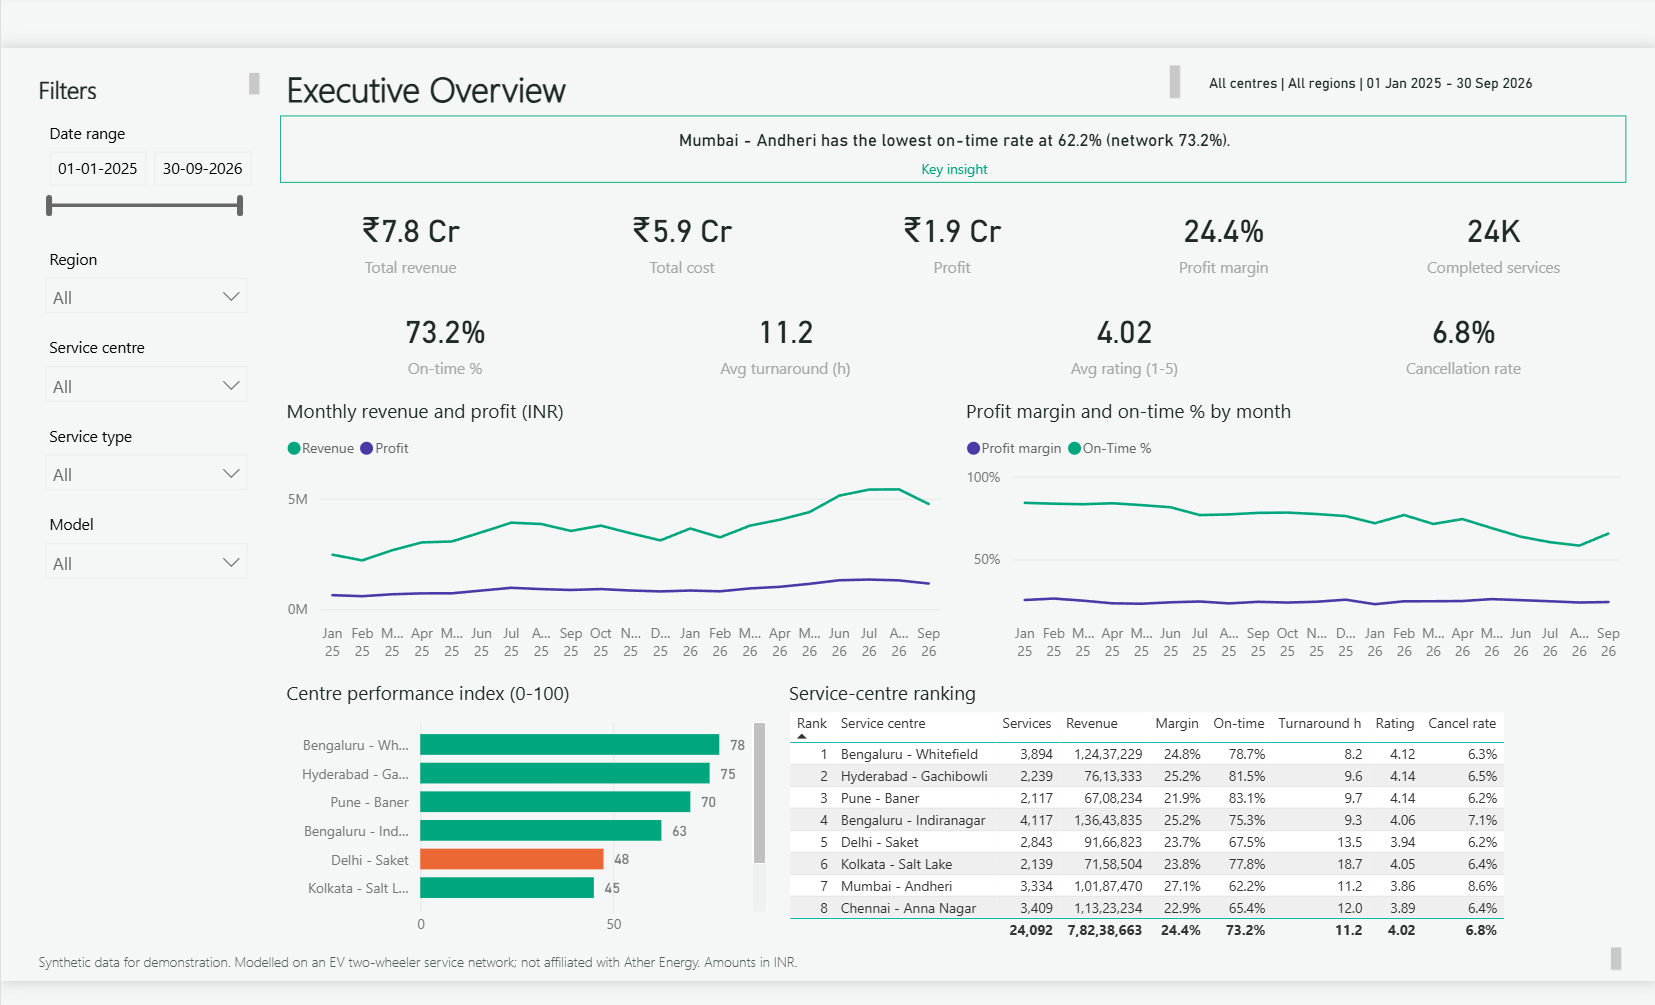

What the dashboard file says about the page in this screenshot:
{"tool":"powerbi","page":{"name":"Executive Overview","canvas":[1280,720],"ordinal":0},"visuals":[{"type":"textbox","box":[216,8,700,40],"z":0},{"type":"card","fields":{"Values":["_Measures.Selection Label"]},"box":[860,12,396,34],"z":1000},{"type":"card","fields":{"Values":["_Measures.Key Insight - Executive"]},"box":[216,52,1040,52],"z":2000},{"type":"textbox","box":[24,14,180,30],"z":3000},{"type":"slicer","fields":{"Values":["DimDate.date"]},"box":[24,52,176,90],"z":4000},{"type":"slicer","fields":{"Values":["DimCentre.region"]},"box":[24,150,176,60],"z":5000},{"type":"slicer","fields":{"Values":["DimCentre.center_name"]},"box":[24,218,176,60],"z":6000},{"type":"slicer","fields":{"Values":["DimServiceType.service_type"]},"box":[24,286,176,60],"z":7000},{"type":"slicer","fields":{"Values":["DimModel.model"]},"box":[24,354,176,60],"z":8000},{"type":"textbox","box":[24,690,1232,28],"z":9000},{"type":"card","fields":{"Values":["_Measures.INR Short Revenue"]},"box":[216,112,201,72],"z":10000},{"type":"card","fields":{"Values":["_Measures.INR Short Cost"]},"box":[425,112,201,72],"z":11000},{"type":"card","fields":{"Values":["_Measures.INR Short Profit"]},"box":[634,112,201,72],"z":12000},{"type":"card","fields":{"Values":["_Measures.Profit Margin %"]},"box":[843,112,201,72],"z":13000},{"type":"card","fields":{"Values":["_Measures.Completed Services"]},"box":[1052,112,201,72],"z":14000},{"type":"card","fields":{"Values":["_Measures.On-Time %"]},"box":[216,190,254,72],"z":15000},{"type":"card","fields":{"Values":["_Measures.Avg Turnaround Hours"]},"box":[478,190,254,72],"z":16000},{"type":"card","fields":{"Values":["_Measures.Avg Rating"]},"box":[740,190,254,72],"z":17000},{"type":"card","fields":{"Values":["_Measures.Cancellation Rate"]},"box":[1002,190,254,72],"z":18000},{"type":"lineChart","title":"Monthly revenue and profit (INR)","fields":{"Category":["DimDate.Month Label"],"Y":["_Measures.Total Revenue","_Measures.Profit"]},"box":[216,270,516,210],"z":19000},{"type":"lineChart","title":"Profit margin and on-time % by month","fields":{"Category":["DimDate.Month Label"],"Y":["_Measures.Profit Margin %","_Measures.On-Time %"]},"box":[740,270,516,210],"z":20000},{"type":"clusteredBarChart","title":"Centre performance index (0-100)","fields":{"Category":["DimCentre.center_name"],"Y":["_Measures.Centre Performance Index"]},"box":[216,488,380,206],"z":21000},{"type":"tableEx","title":"Service-centre ranking","fields":{"Values":["_Measures.Centre Rank","DimCentre.center_name","_Measures.Completed Services","_Measures.Total Revenue","_Measures.Profit Margin %","_Measures.On-Time %","_Measures.Avg Turnaround Hours","_Measures.Avg Rating","_Measures.Cancellation Rate"]},"box":[604,488,652,206],"z":22000}]}

Visuals, with their boxes on the page's 1280x720 design canvas (x1, y1, x2, y2). These are canvas units, not pixel positions in the 1655x1005 screenshot, which may show the page scaled, cropped or inside an application window:
textbox: x1=216 y1=8 x2=916 y2=48
card - _Measures.Selection Label: x1=860 y1=12 x2=1256 y2=46
card - _Measures.Key Insight - Executive: x1=216 y1=52 x2=1256 y2=104
textbox: x1=24 y1=14 x2=204 y2=44
slicer - DimDate.date: x1=24 y1=52 x2=200 y2=142
slicer - DimCentre.region: x1=24 y1=150 x2=200 y2=210
slicer - DimCentre.center_name: x1=24 y1=218 x2=200 y2=278
slicer - DimServiceType.service_type: x1=24 y1=286 x2=200 y2=346
slicer - DimModel.model: x1=24 y1=354 x2=200 y2=414
textbox: x1=24 y1=690 x2=1256 y2=718
card - _Measures.INR Short Revenue: x1=216 y1=112 x2=417 y2=184
card - _Measures.INR Short Cost: x1=425 y1=112 x2=626 y2=184
card - _Measures.INR Short Profit: x1=634 y1=112 x2=835 y2=184
card - _Measures.Profit Margin %: x1=843 y1=112 x2=1044 y2=184
card - _Measures.Completed Services: x1=1052 y1=112 x2=1253 y2=184
card - _Measures.On-Time %: x1=216 y1=190 x2=470 y2=262
card - _Measures.Avg Turnaround Hours: x1=478 y1=190 x2=732 y2=262
card - _Measures.Avg Rating: x1=740 y1=190 x2=994 y2=262
card - _Measures.Cancellation Rate: x1=1002 y1=190 x2=1256 y2=262
"Monthly revenue and profit (INR)" lineChart: x1=216 y1=270 x2=732 y2=480
"Profit margin and on-time % by month" lineChart: x1=740 y1=270 x2=1256 y2=480
"Centre performance index (0-100)" clusteredBarChart: x1=216 y1=488 x2=596 y2=694
"Service-centre ranking" tableEx: x1=604 y1=488 x2=1256 y2=694
